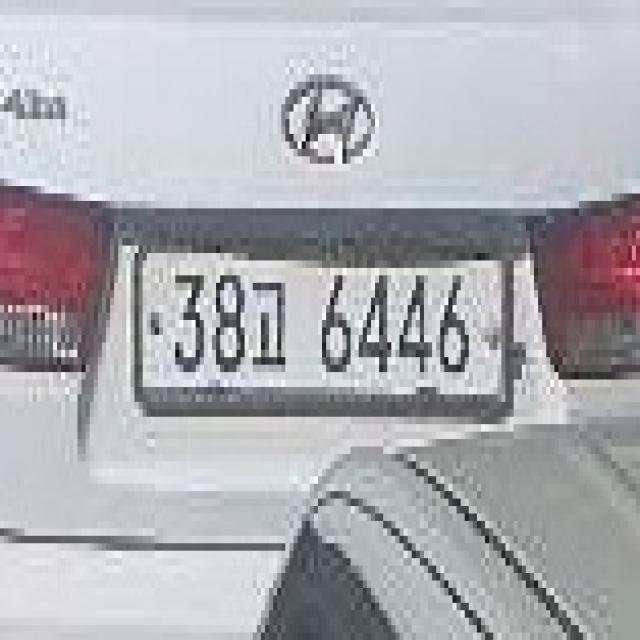plat: (127, 239, 562, 419)
